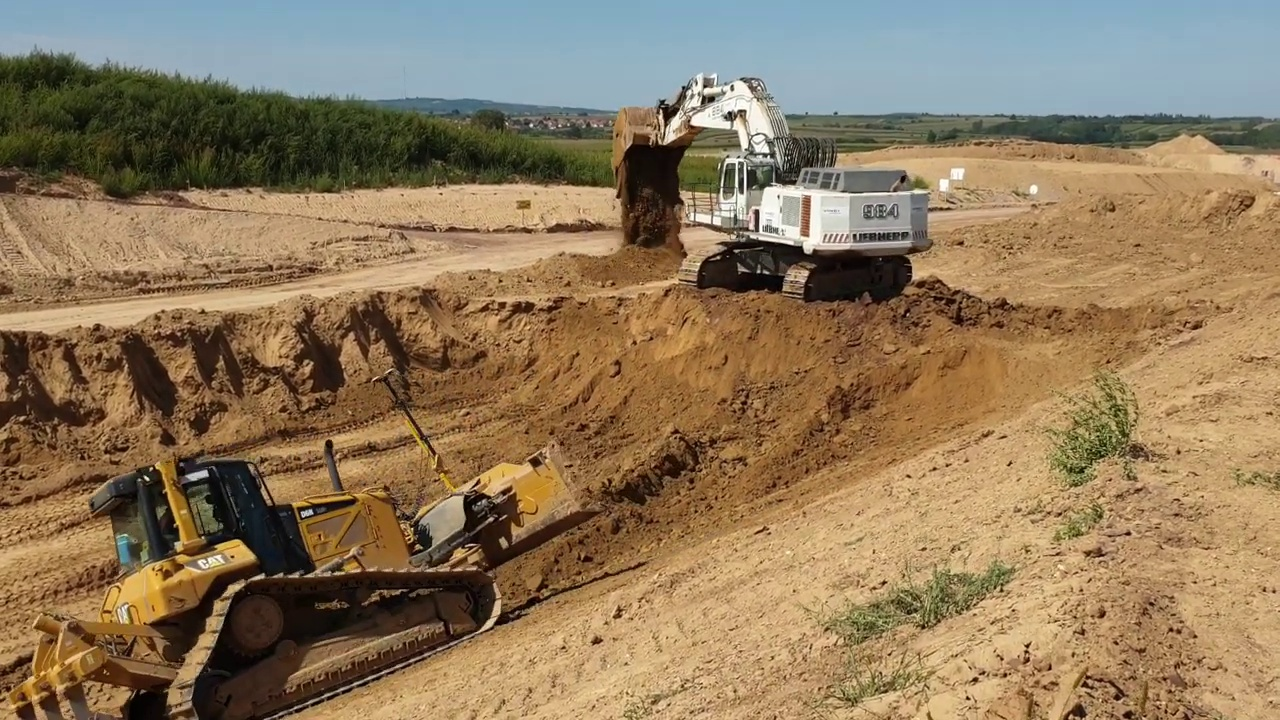bulldozer: (4, 367, 593, 720)
excavator: (605, 67, 939, 306)
